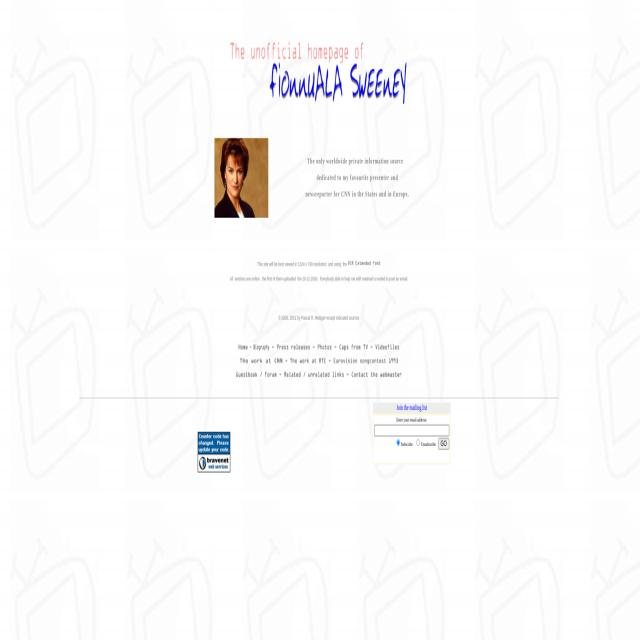button: (230, 38, 408, 104), (214, 138, 268, 218), (198, 432, 230, 472), (326, 357, 398, 364), (277, 371, 344, 378), (344, 371, 402, 378), (283, 357, 326, 364), (240, 357, 282, 364), (270, 343, 310, 350), (236, 371, 276, 378), (332, 343, 368, 350), (348, 259, 380, 266), (368, 343, 399, 350), (310, 343, 332, 350), (248, 343, 269, 350), (438, 438, 449, 450), (238, 343, 248, 350)
field: (375, 424, 449, 436), (396, 438, 401, 447), (417, 438, 420, 446)
